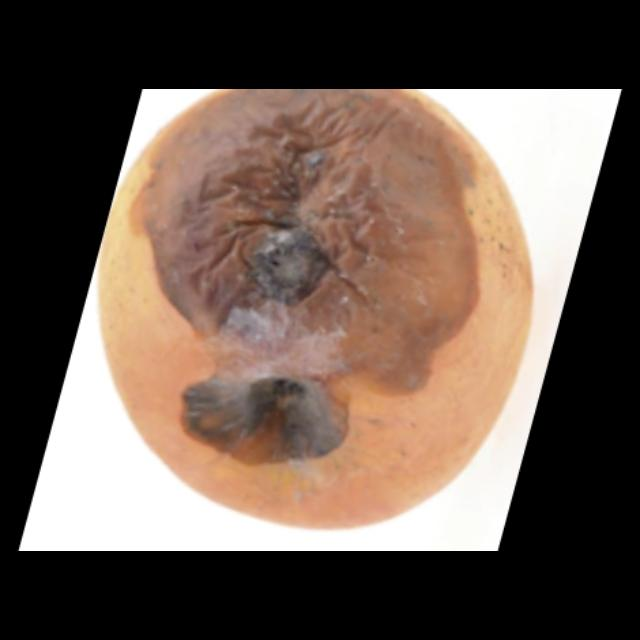Apel Tidak Segar: (97, 89, 545, 552)
